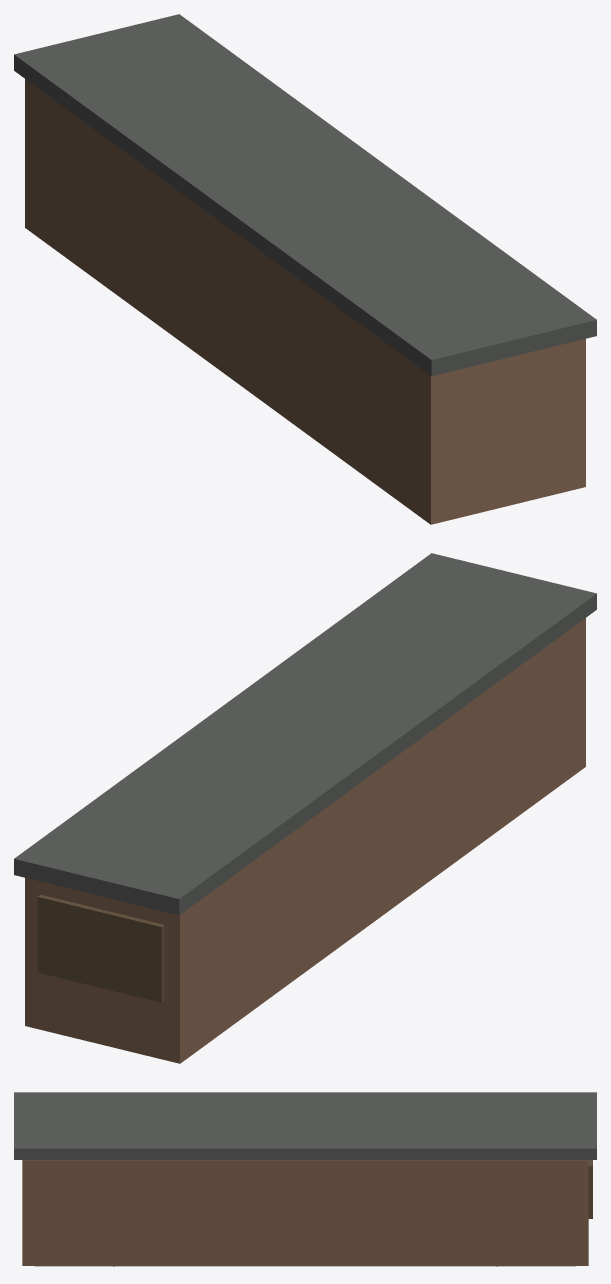
Rendered from i_rail.glb.
3 views of the same model, one above another, from view 1: azimuth 30°, elevation 25°; view 2: azimuth 150°, elevation 25°; view 3: azimuth 270°, elevation 25° (orthographic). The views are drawn at different scales.
Visible parts, largest first — view 1: body; view 2: body; view 3: body.
Boxes of the visible parts, x1=… form: body: x1=14, y1=14, x2=596, y2=524; body: x1=14, y1=553, x2=596, y2=1063; body: x1=14, y1=1092, x2=596, y2=1266.
Bounding box in the file's own units: 3.2 × 3.35 × 14.
